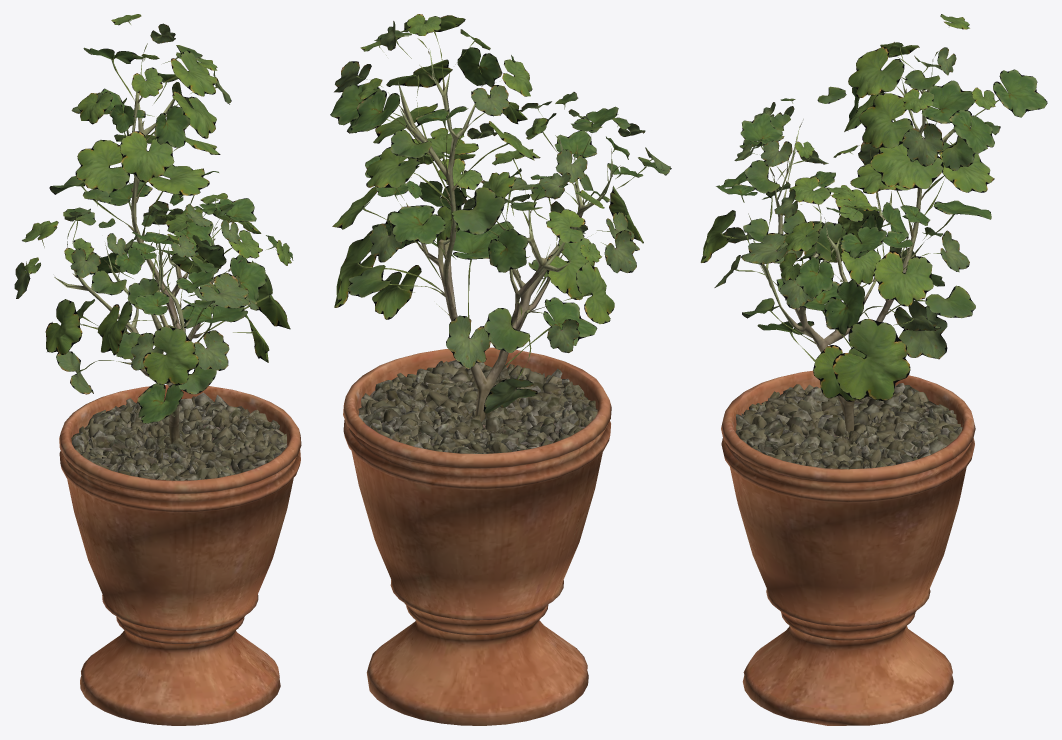
The model's file is potted_plant_01.glb.
3 renders of one model, left to right at view 1: azimuth 30°, elevation 25°; view 2: azimuth 150°, elevation 25°; view 3: azimuth 270°, elevation 25°, orthographic. The views are drawn at different scales.
Parts seen in each view (by area): view 1: potted_plant_01_stem, potted_plant_01_leaves; view 2: potted_plant_01_stem, potted_plant_01_leaves; view 3: potted_plant_01_stem, potted_plant_01_leaves.
Part boxes in pixels (x1=…): potted_plant_01_stem: x1=54, y1=58, x2=301, y2=725; potted_plant_01_leaves: x1=14, y1=14, x2=293, y2=423; potted_plant_01_stem: x1=343, y1=48, x2=612, y2=725; potted_plant_01_leaves: x1=330, y1=14, x2=671, y2=414; potted_plant_01_stem: x1=721, y1=59, x2=975, y2=725; potted_plant_01_leaves: x1=700, y1=14, x2=1047, y2=401.
Bounding box in the file's own units: 0.5866 × 1.34 × 0.6336.
2 materials, 2 textured.
